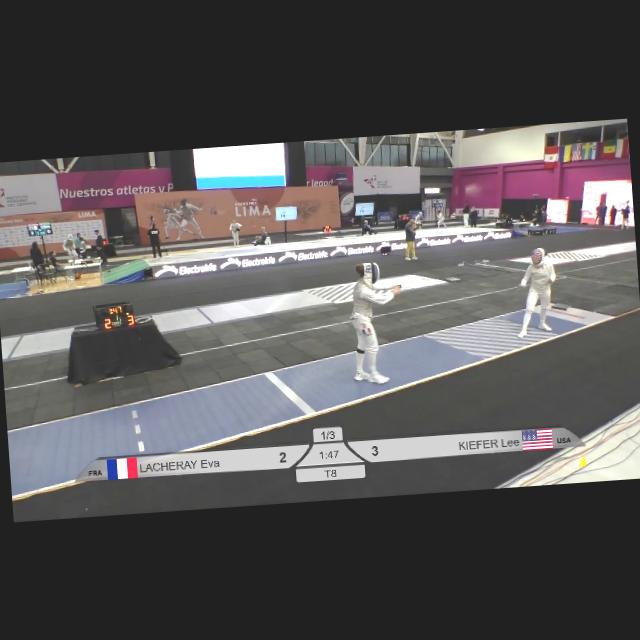blade: (396, 281, 430, 294)
